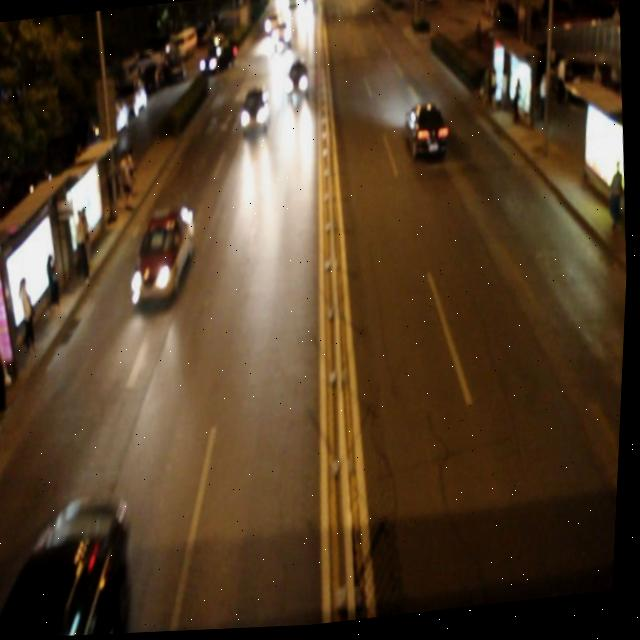car: (0, 495, 144, 640), (127, 200, 203, 307), (399, 100, 453, 165), (238, 87, 273, 135), (282, 60, 310, 104)
